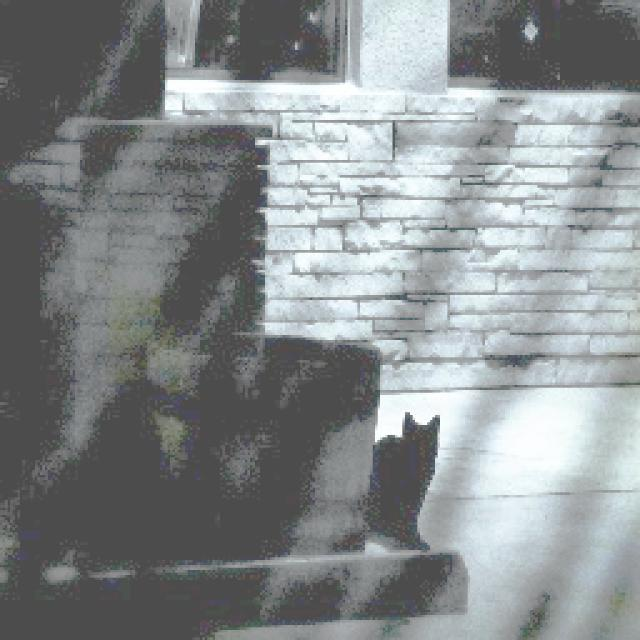cat: (372, 409, 454, 561)
